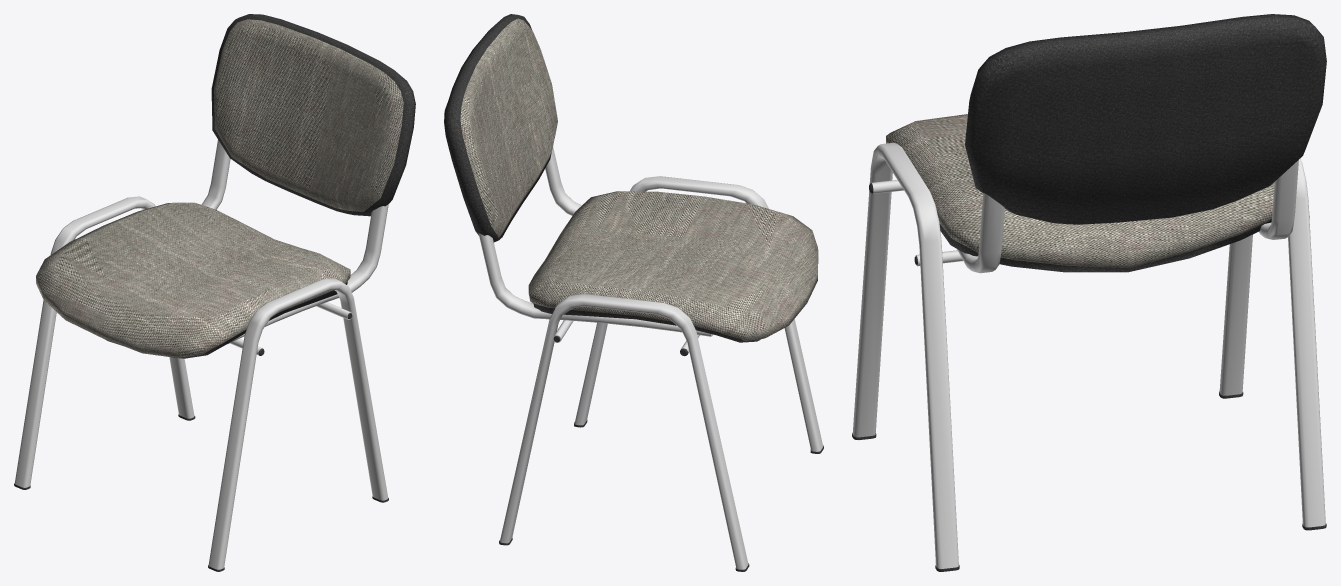
The model's file is o3_sedia_ufficio_imbottita.glb.
3 views of the same model, side by side, from view 1: azimuth 30°, elevation 25°; view 2: azimuth 150°, elevation 25°; view 3: azimuth 270°, elevation 25° (orthographic). The views are drawn at different scales.
Visible parts, largest first — view 1: sb_modello; view 2: sb_modello; view 3: sb_modello.
Boxes of the visible parts, x1,y1,x2,y2 form: sb_modello: [14, 14, 415, 571]; sb_modello: [444, 14, 823, 571]; sb_modello: [852, 14, 1326, 571].
Bounding box in the file's own units: 0.7365 × 0.9 × 0.7.
Materials: 3 (2 with a texture image).
